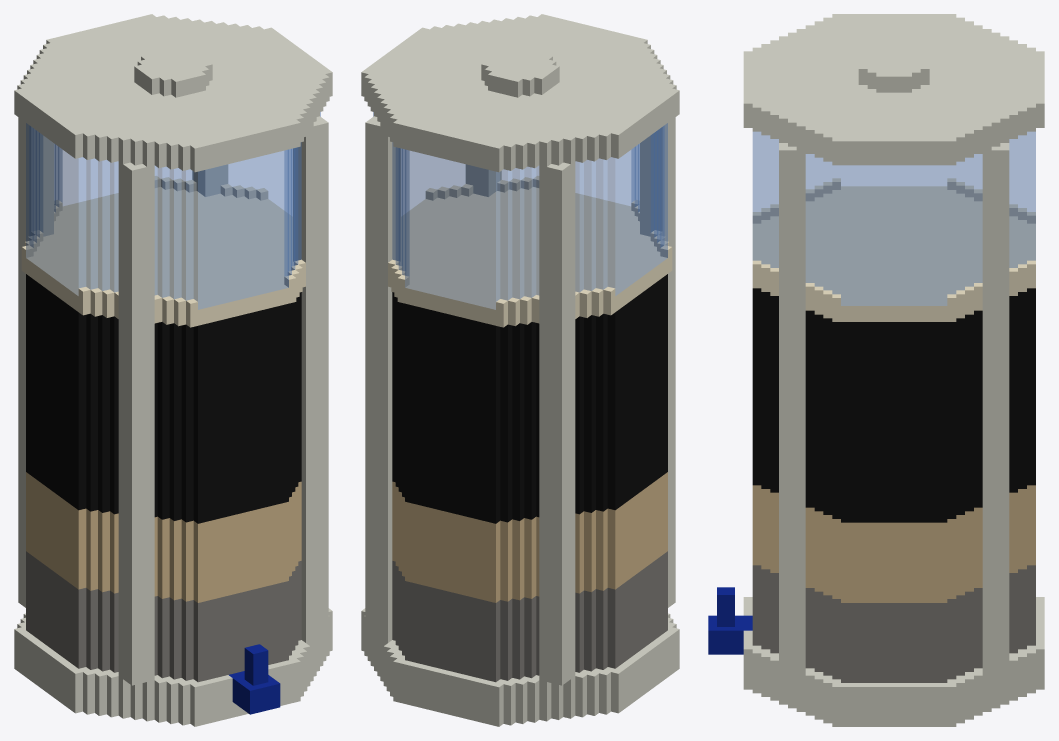
The model's file is char_purifier.glb.
3 views of the same model, side by side, from view 1: azimuth 30°, elevation 25°; view 2: azimuth 150°, elevation 25°; view 3: azimuth 270°, elevation 25° (orthographic).
Parts seen in each view (by area): view 1: char_purifier:compound; view 2: char_purifier:compound; view 3: char_purifier:compound.
Part boxes in pixels (x1,y1,x2,y2): char_purifier:compound: (14,14,332,726); char_purifier:compound: (361,14,679,726); char_purifier:compound: (708,14,1044,726).
Size of the model in its own units: 0.136 by 0.3 by 0.152.
